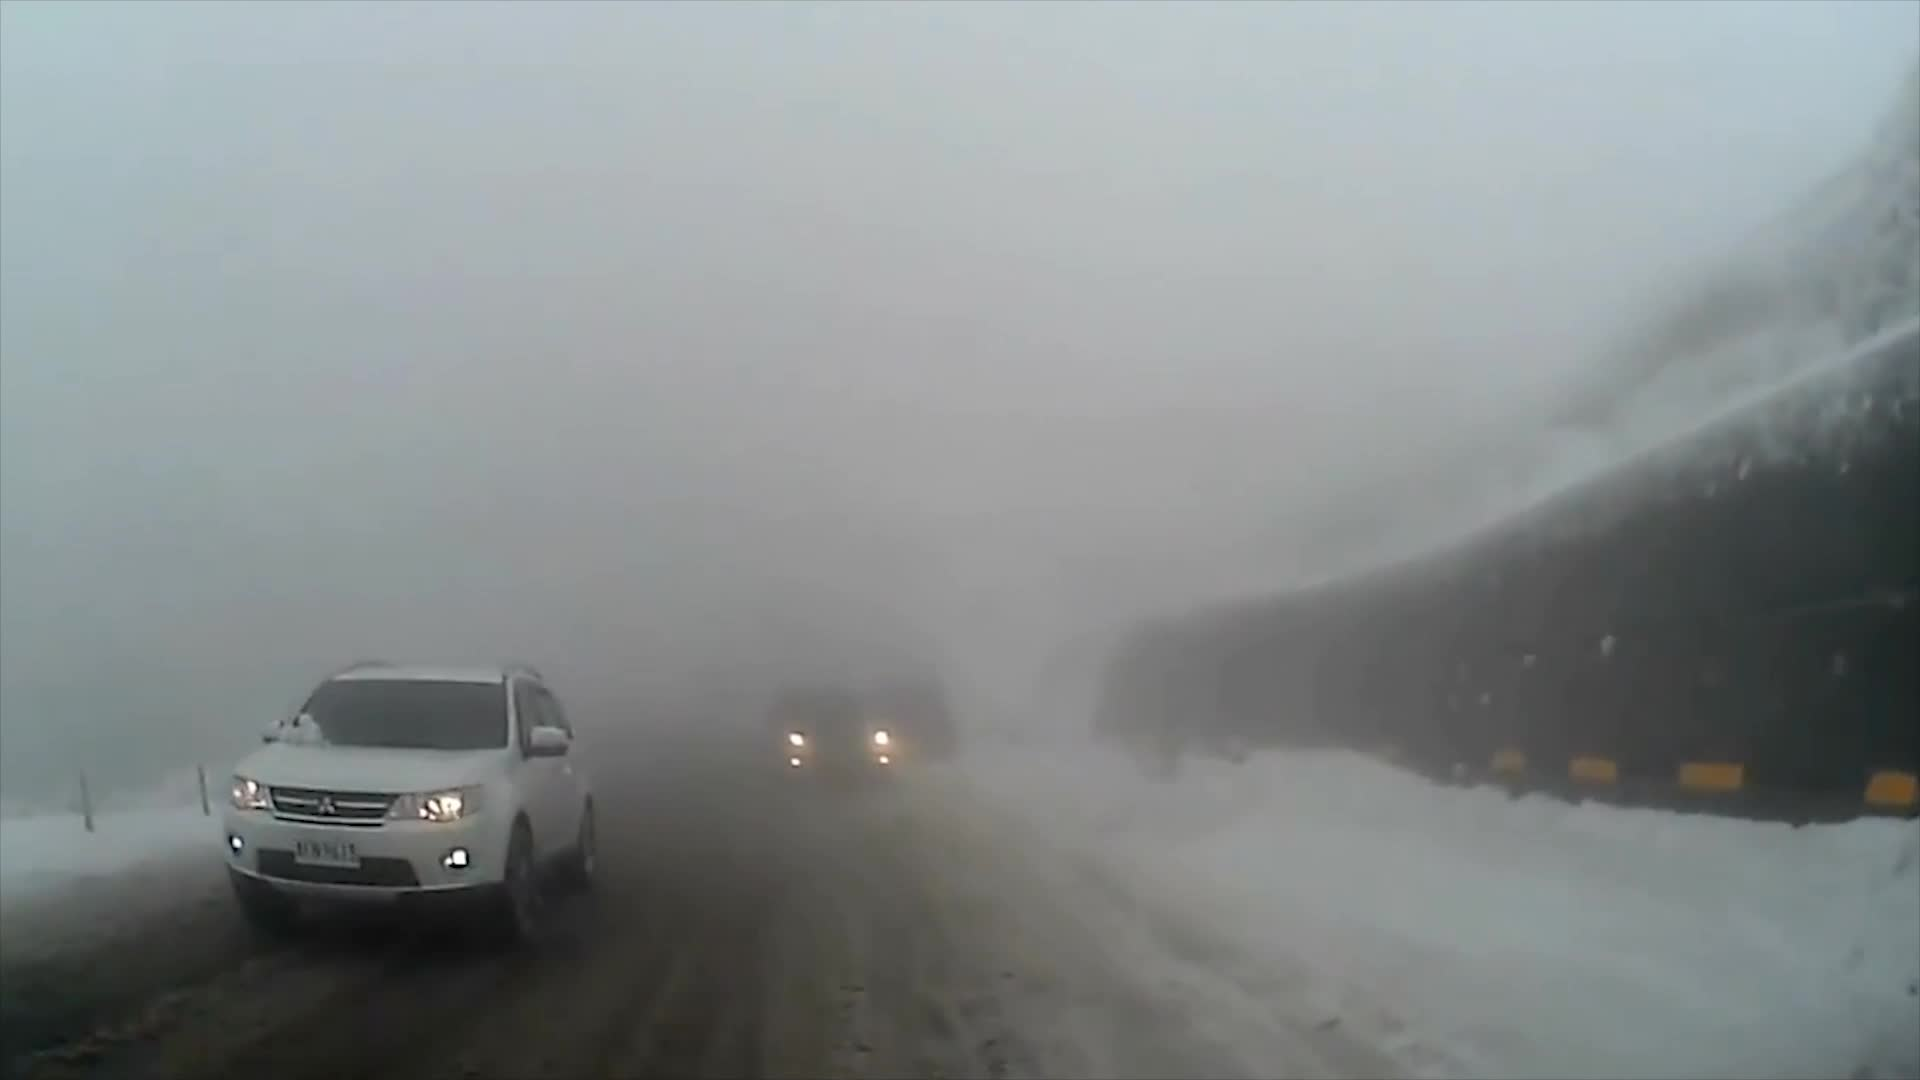vehicle: (215, 657, 600, 948), (753, 686, 898, 796)
